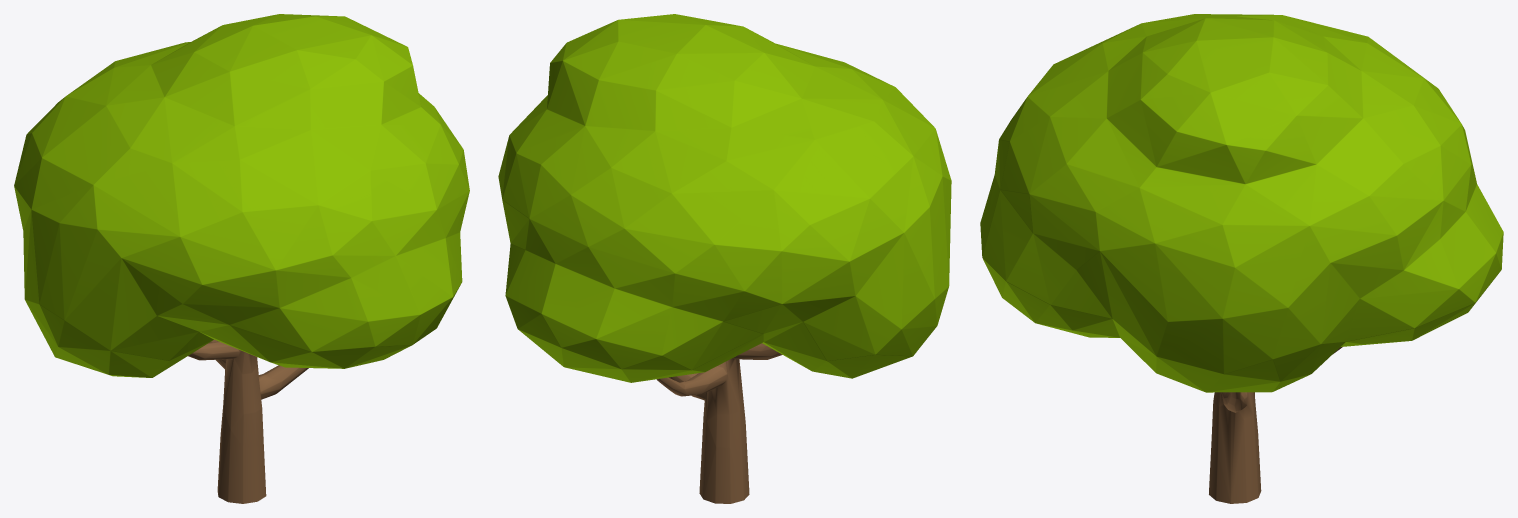
Rendered from Tree_03.glb.
3 renders of one model, left to right at view 1: azimuth 30°, elevation 25°; view 2: azimuth 150°, elevation 25°; view 3: azimuth 270°, elevation 25°, orthographic. The views are drawn at different scales.
Visible parts, largest first — view 1: Tree_03; view 2: Tree_03; view 3: Tree_03.
Part boxes in pixels (x1,y1,x2,y2): Tree_03: [14, 14, 469, 503]; Tree_03: [498, 14, 951, 503]; Tree_03: [980, 14, 1503, 503].
Bounding box in the file's own units: 0.1197 × 0.1246 × 0.1254.
